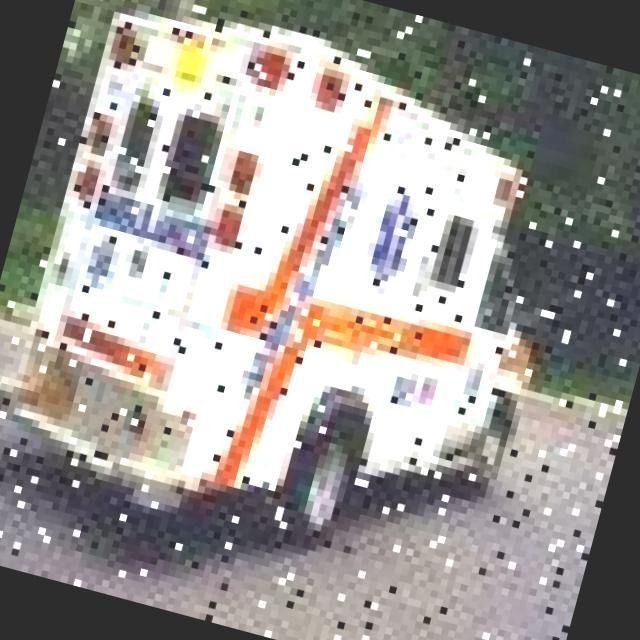emergency-vehicle: (0, 0, 601, 603)
